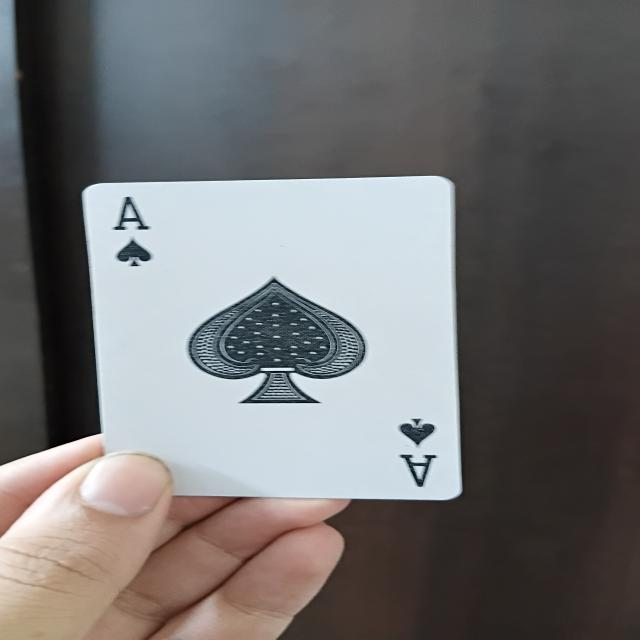AS: (86, 187, 446, 502)
